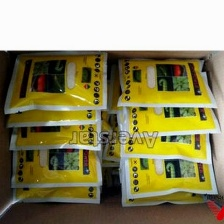insecticide: (2, 47, 111, 115), (118, 70, 223, 139), (5, 83, 104, 153), (115, 52, 222, 112), (117, 105, 215, 166), (122, 141, 221, 200), (9, 128, 106, 188), (2, 76, 103, 127), (118, 160, 214, 209), (7, 159, 104, 207)
